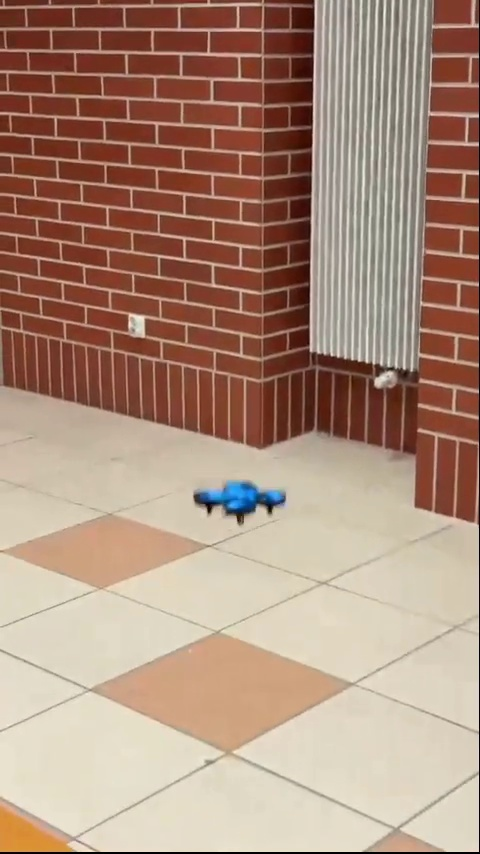drone: (192, 476, 289, 521)
